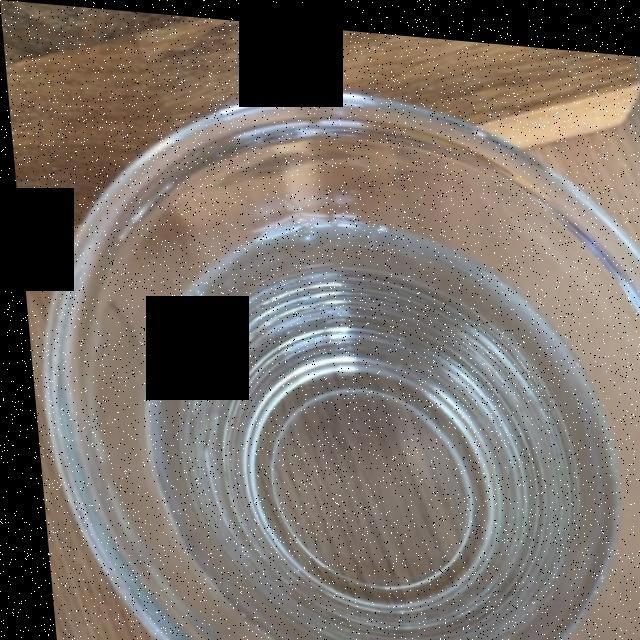water: (132, 210, 612, 640)
